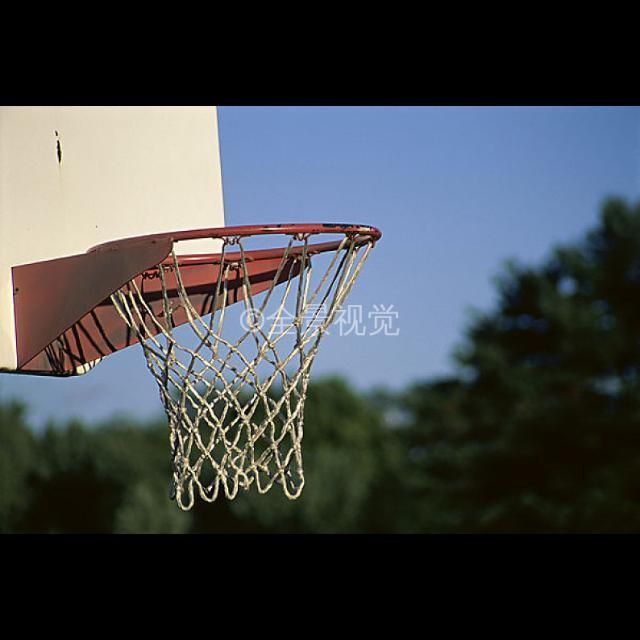rim: (93, 222, 381, 502)
